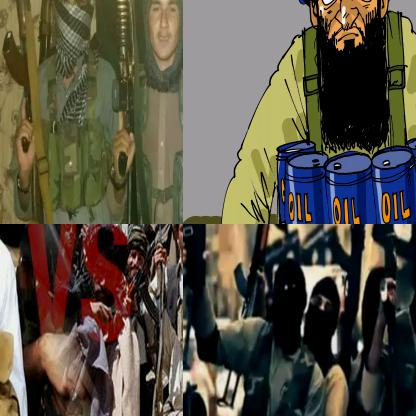rifle: (221, 224, 285, 412), (2, 0, 45, 223), (109, 0, 144, 223), (324, 224, 374, 340), (123, 237, 162, 333), (37, 0, 58, 63)
